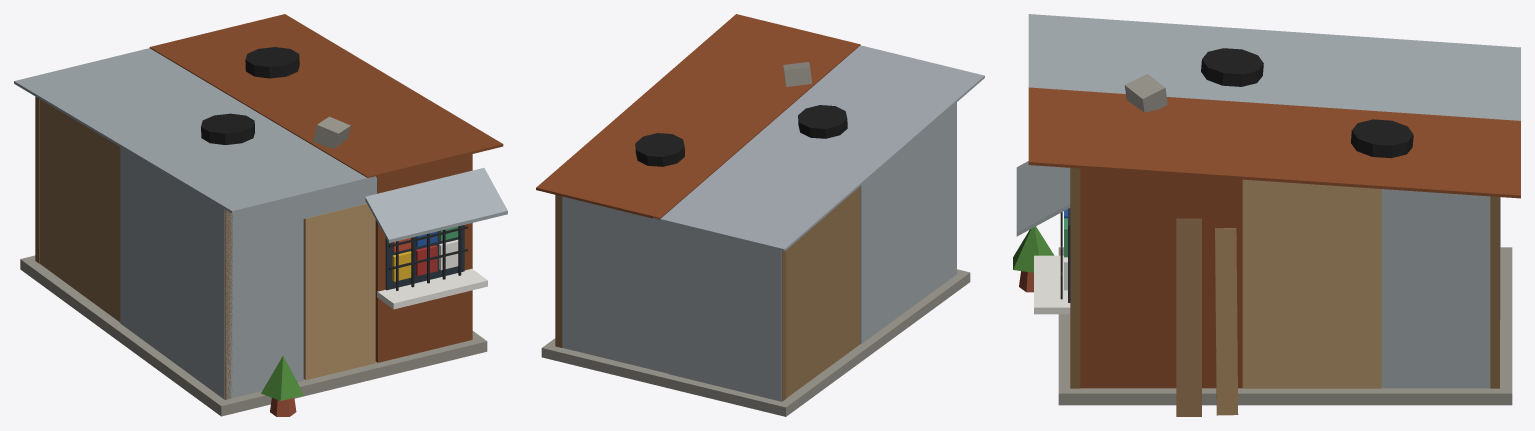
File: BAY_I_TinShack_B.glb
3 views of the same model, side by side, from view 1: azimuth 30°, elevation 25°; view 2: azimuth 150°, elevation 25°; view 3: azimuth 270°, elevation 25° (orthographic). The views are drawn at different scales.
Visible parts, largest first — view 1: BAY_I_TinShack_B; view 2: BAY_I_TinShack_B; view 3: BAY_I_TinShack_B.
Part boxes in pixels (x1,y1,x2,y2): BAY_I_TinShack_B: (14,14,507,416); BAY_I_TinShack_B: (536,14,984,416); BAY_I_TinShack_B: (1013,14,1520,416).
Bounding box in the file's own units: 3.57 × 2.68 × 4.74.
1 material, 1 textured.
